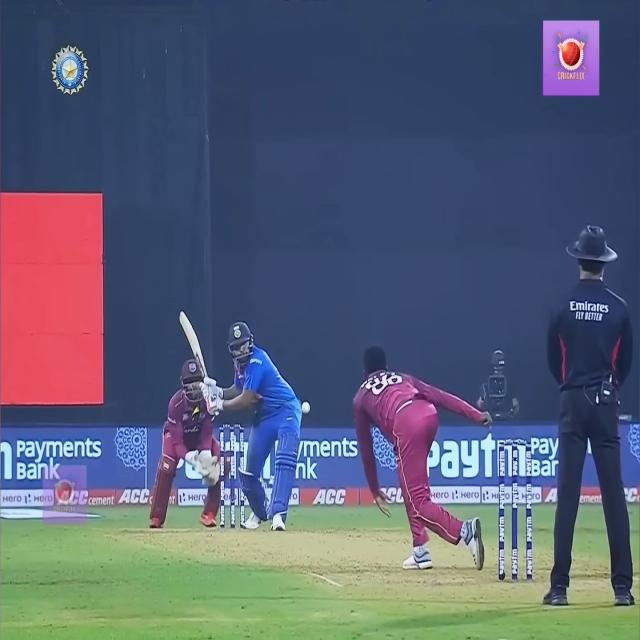partially_visible: (424, 436, 530, 482)
